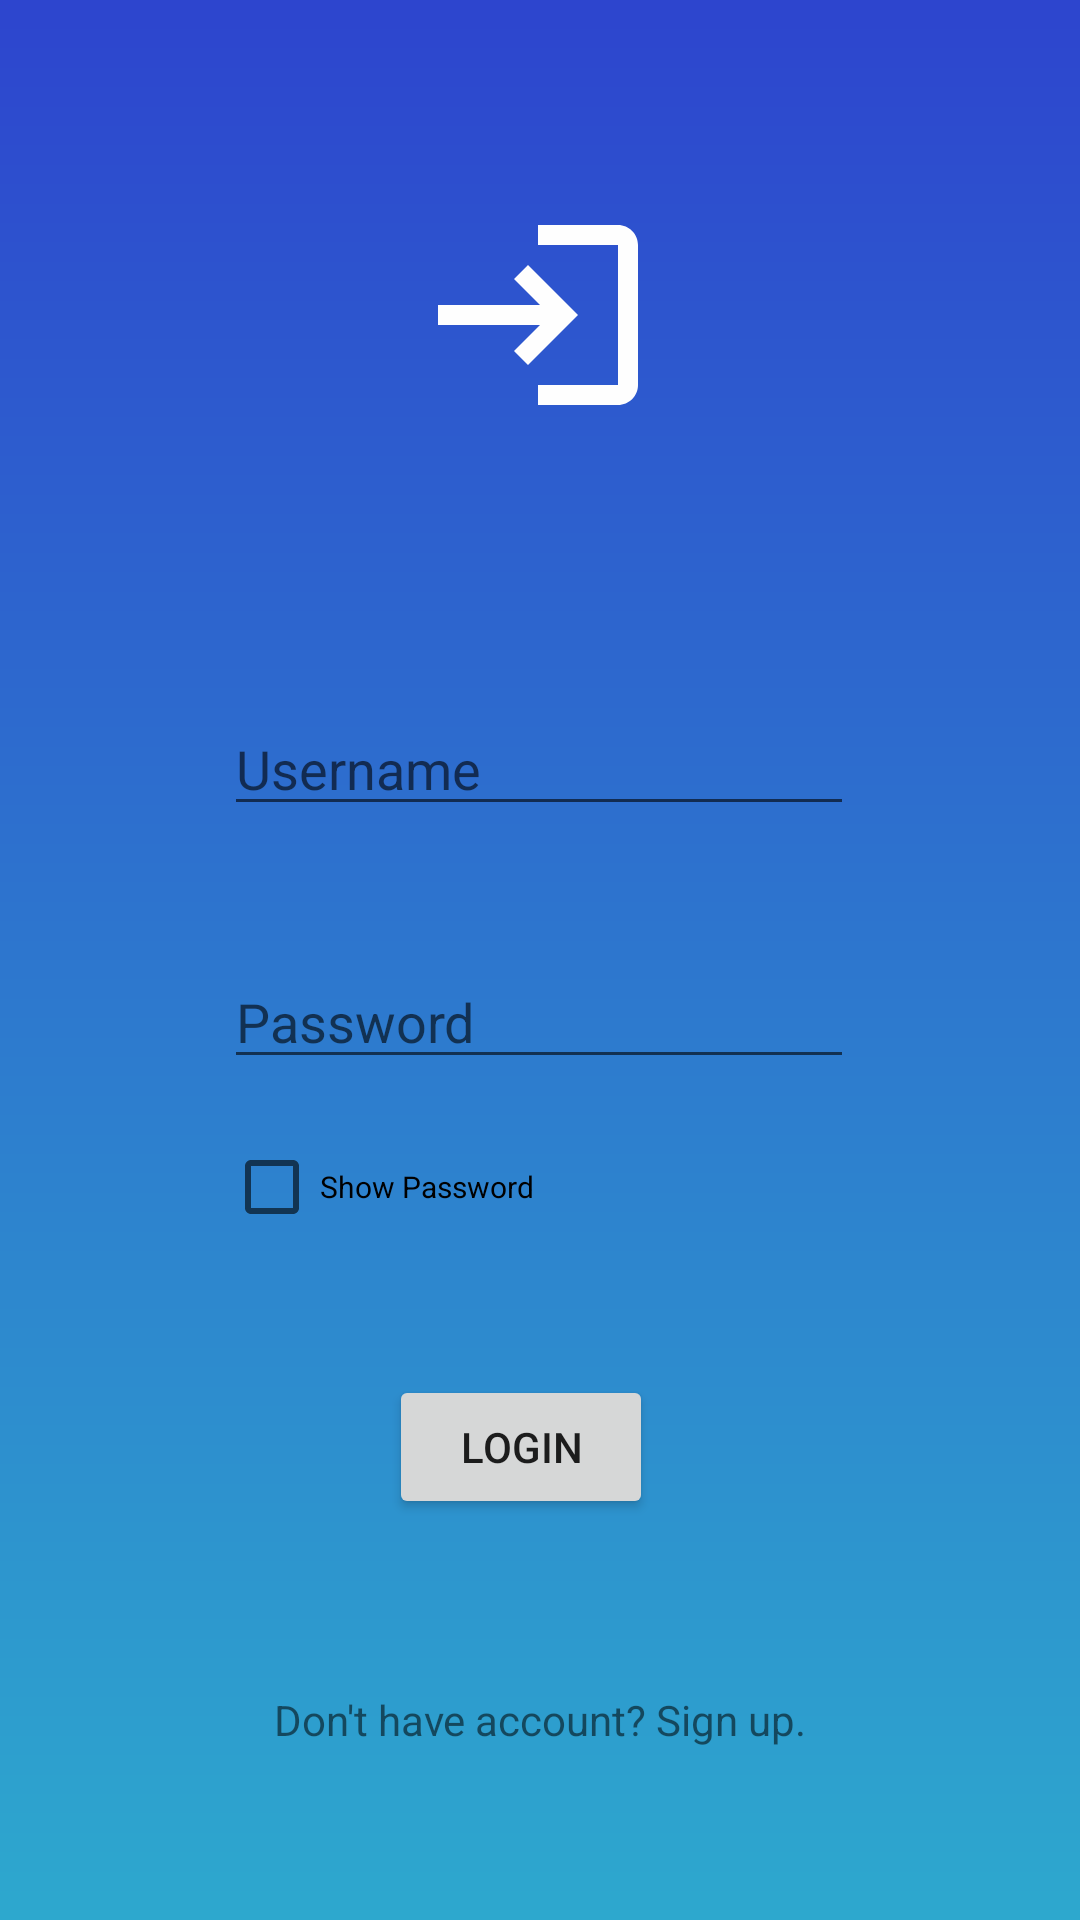

Screen size 1080w x 1920h. Icon name, then its box in pixels as {"left": x1, "top": y1, "right": x2, "bottom": y2}:
login: {"left": 438, "top": 225, "right": 638, "bottom": 405}
